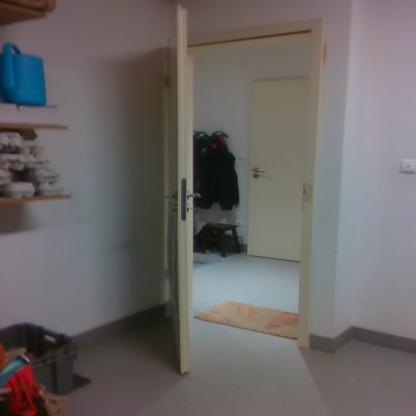semi: (150, 18, 320, 364)
